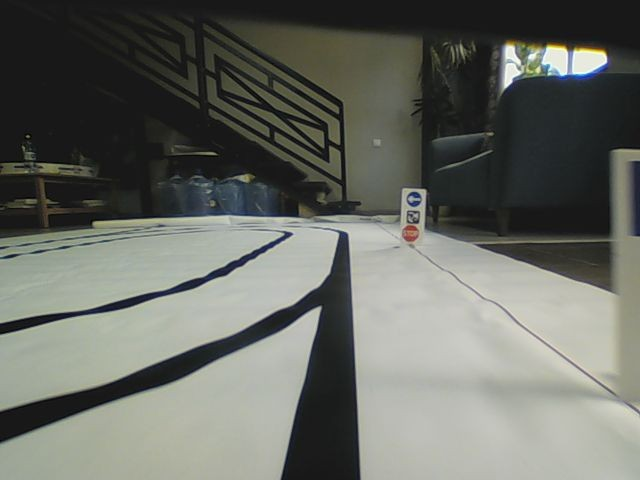Stop: (402, 225, 419, 242)
